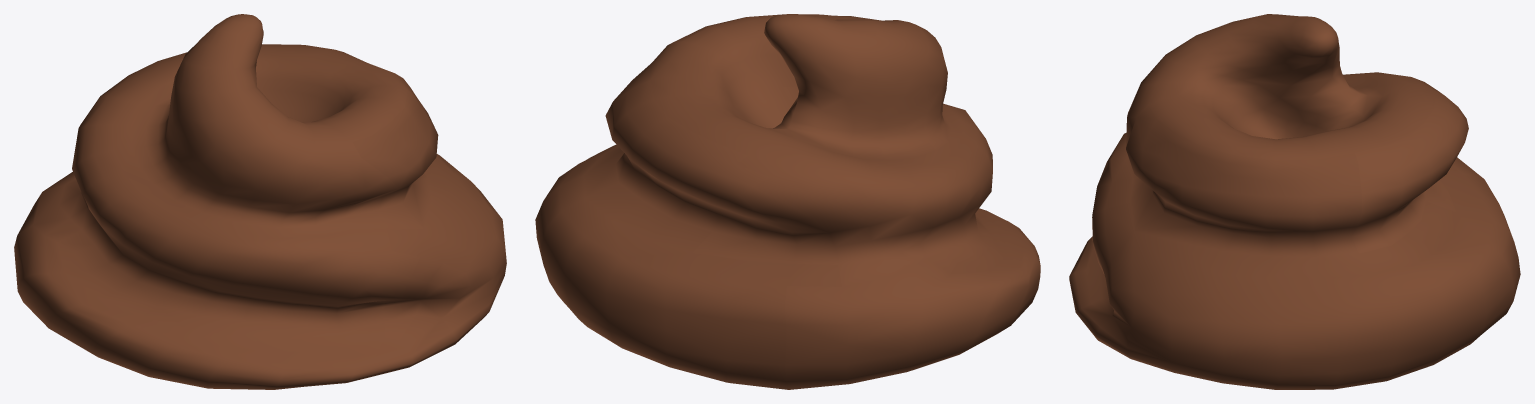
File: Poop_Whole.fbx
3 views of the same model, side by side, from view 1: azimuth 30°, elevation 25°; view 2: azimuth 150°, elevation 25°; view 3: azimuth 270°, elevation 25° (orthographic). The views are drawn at different scales.
Visible parts, largest first — view 1: Poop; view 2: Poop; view 3: Poop.
Boxes of the visible parts, x1,y1,x2,y2 form: Poop: (14,14,506,389); Poop: (535,14,1040,389); Poop: (1069,14,1520,389).
Size of the model in its own units: 58.63 by 37.33 by 54.21.
